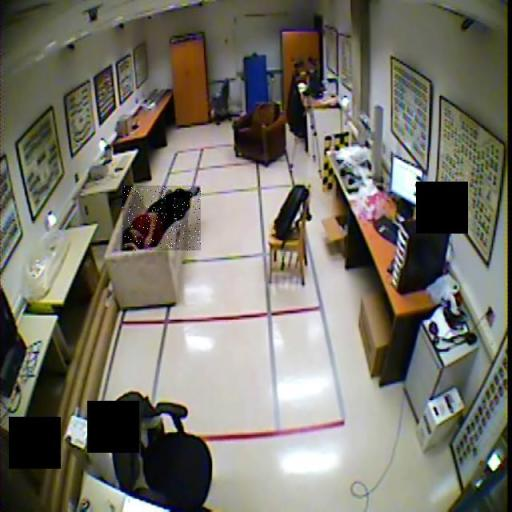Fall: (122, 186, 201, 251)
